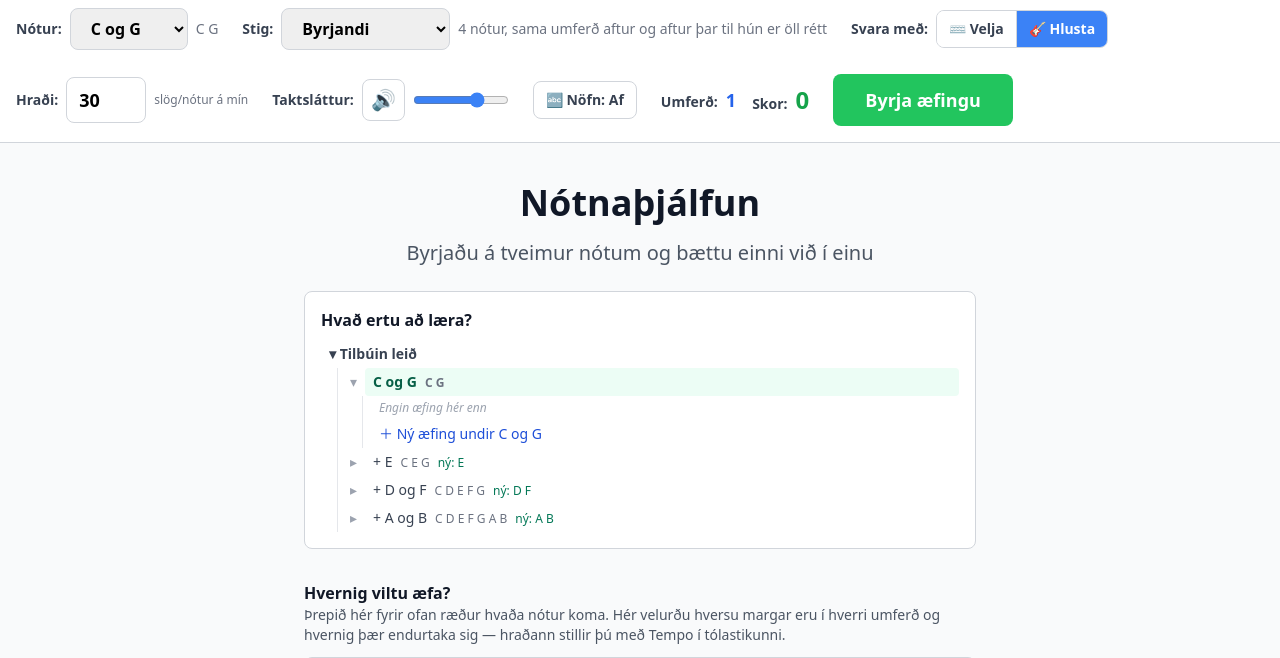
NotectorGame — Muscle Memory mode › shows the bar builder and source picker when Muscle Memory is selected
Step 1. Select "Vöðvaminni" in the dropdown named "Erfiðleikastig" → (366, 29), box [281,8,450,50]
(page scrolled)
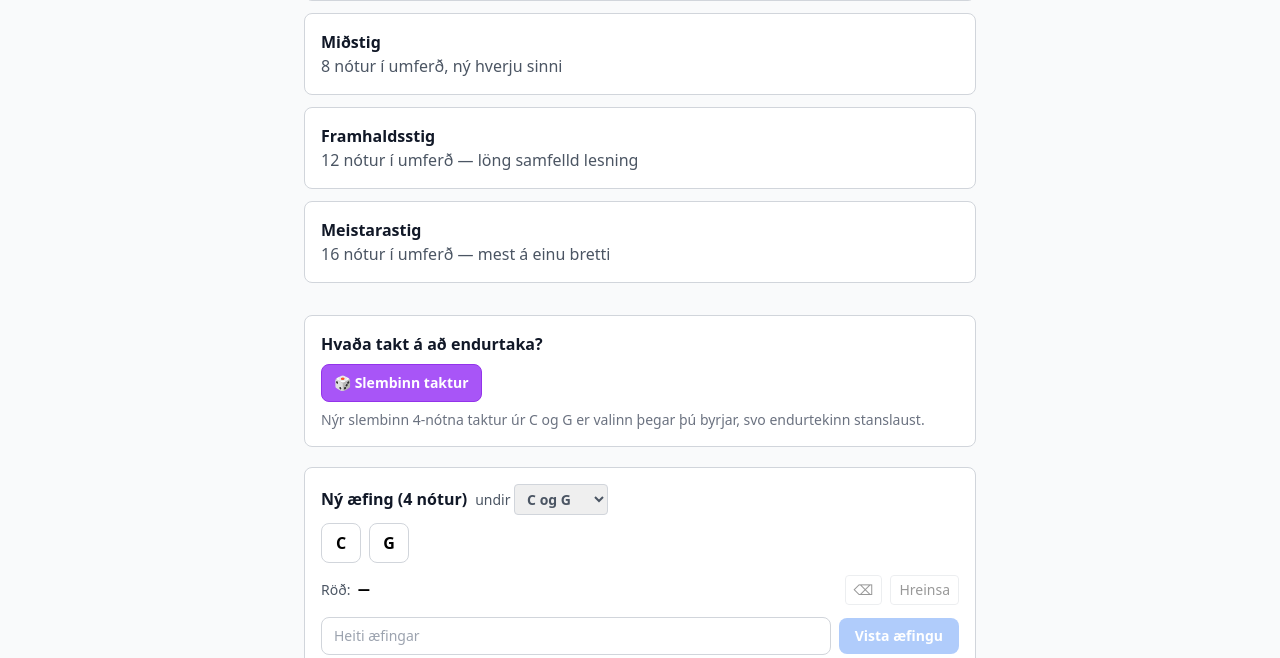
Now the dropdown named "Undir hvaða þrepi æfingin er" is shown, box [514,484,608,515]
Now the button "🎲 Slembinn taktur" is shown, box [321,364,482,402]
